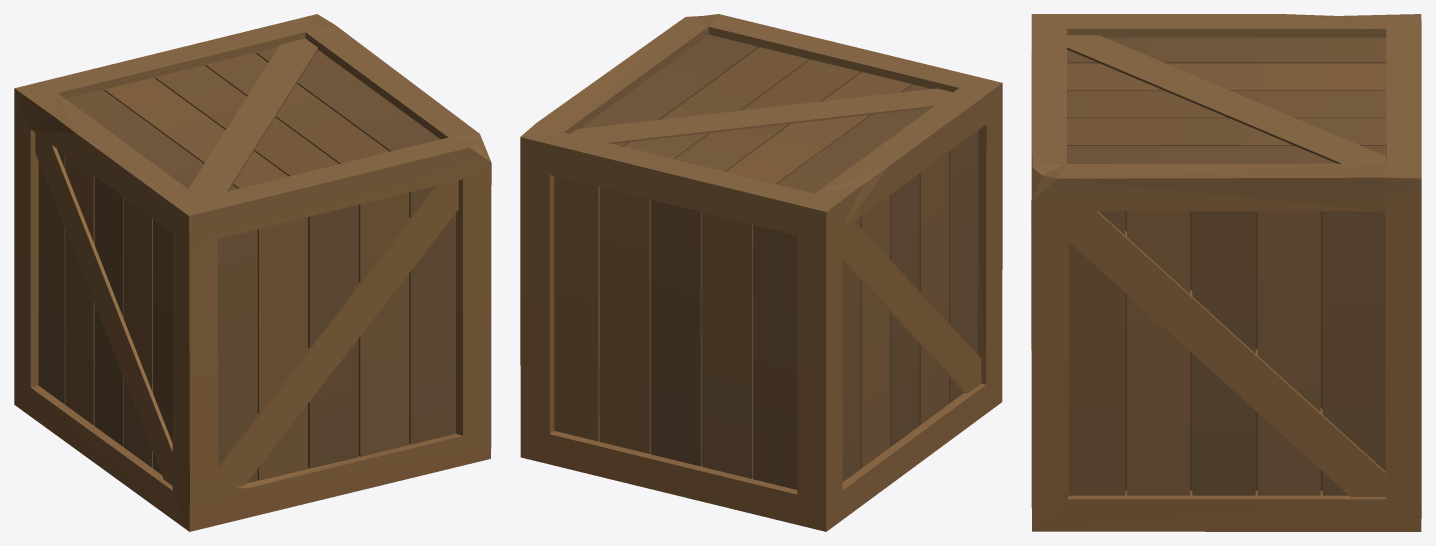
3 renders of one model, left to right at view 1: azimuth 30°, elevation 25°; view 2: azimuth 150°, elevation 25°; view 3: azimuth 270°, elevation 25°, orthographic. The views are drawn at different scales.
Visible parts, largest first — view 1: SM_Box_02; view 2: SM_Box_02; view 3: SM_Box_02.
Part boxes in pixels (box(x1,y1,x2,y2)): SM_Box_02: box(14, 14, 491, 531); SM_Box_02: box(520, 14, 1002, 531); SM_Box_02: box(1031, 14, 1421, 531).
Size of the model in its own units: 0.9163 by 0.9166 by 0.9132.
Materials: 1 (1 with a texture image).
